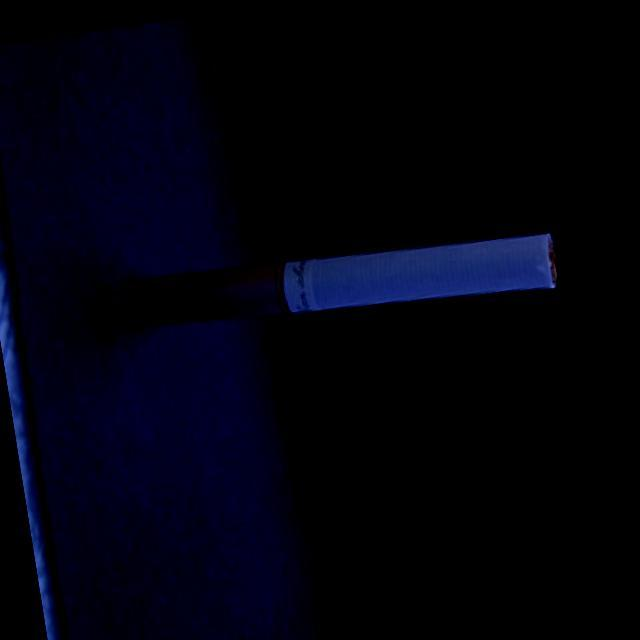cigarette: (132, 214, 566, 356)
